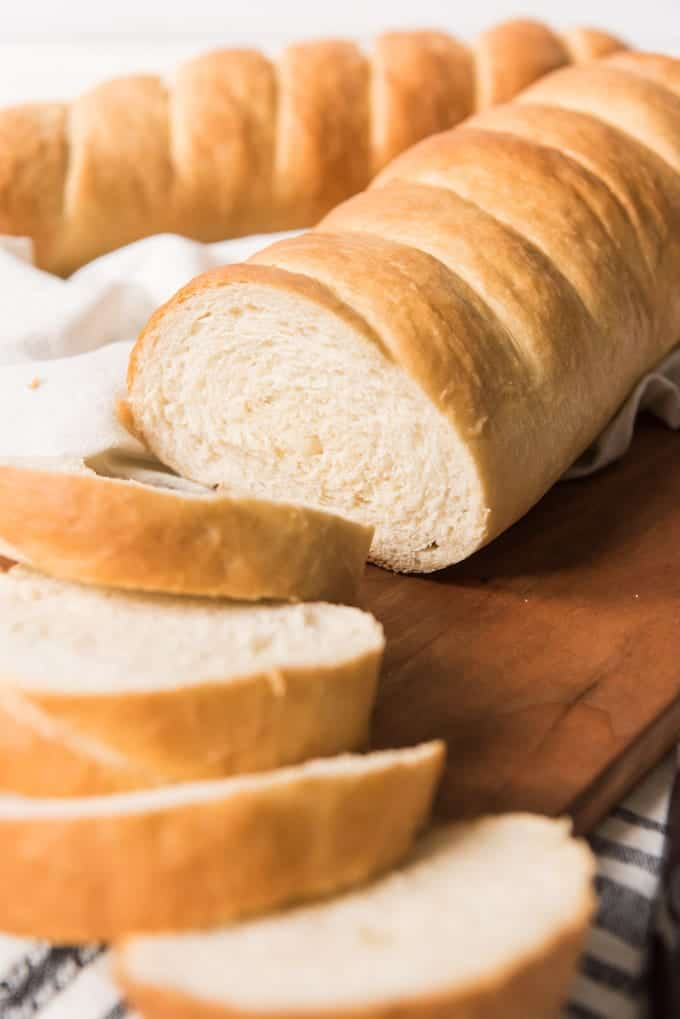Bread: (13, 502, 607, 1008), (91, 48, 676, 553)
